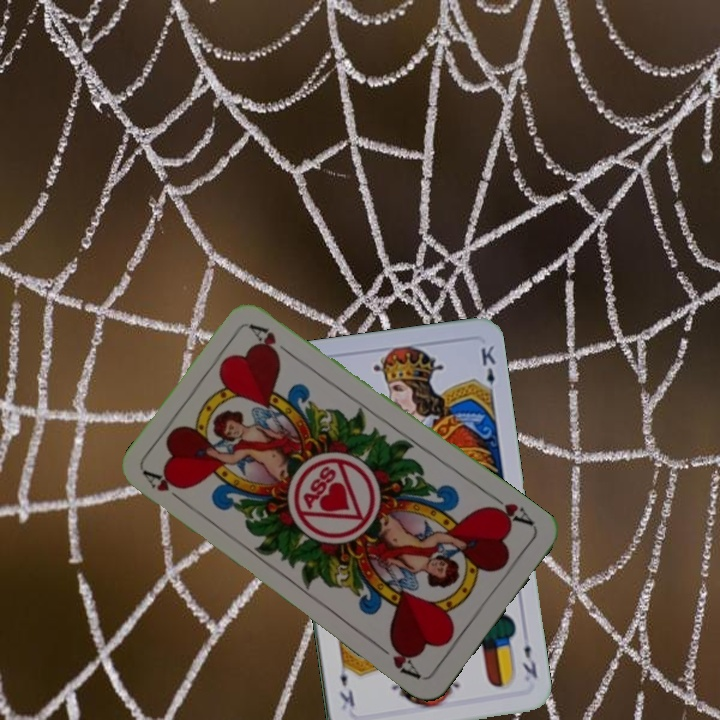EK: (518, 640, 540, 681)
HA: (140, 467, 191, 509), (483, 489, 536, 529)
